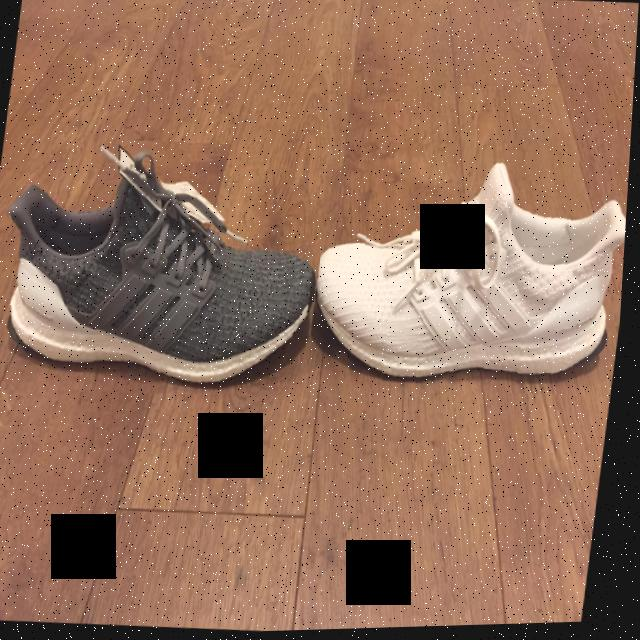shoe: (0, 128, 337, 410), (300, 137, 633, 408)
